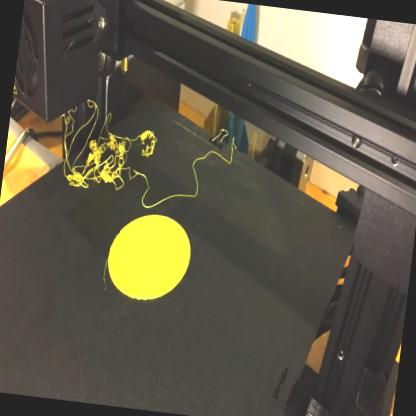fail: (58, 116, 204, 216)
